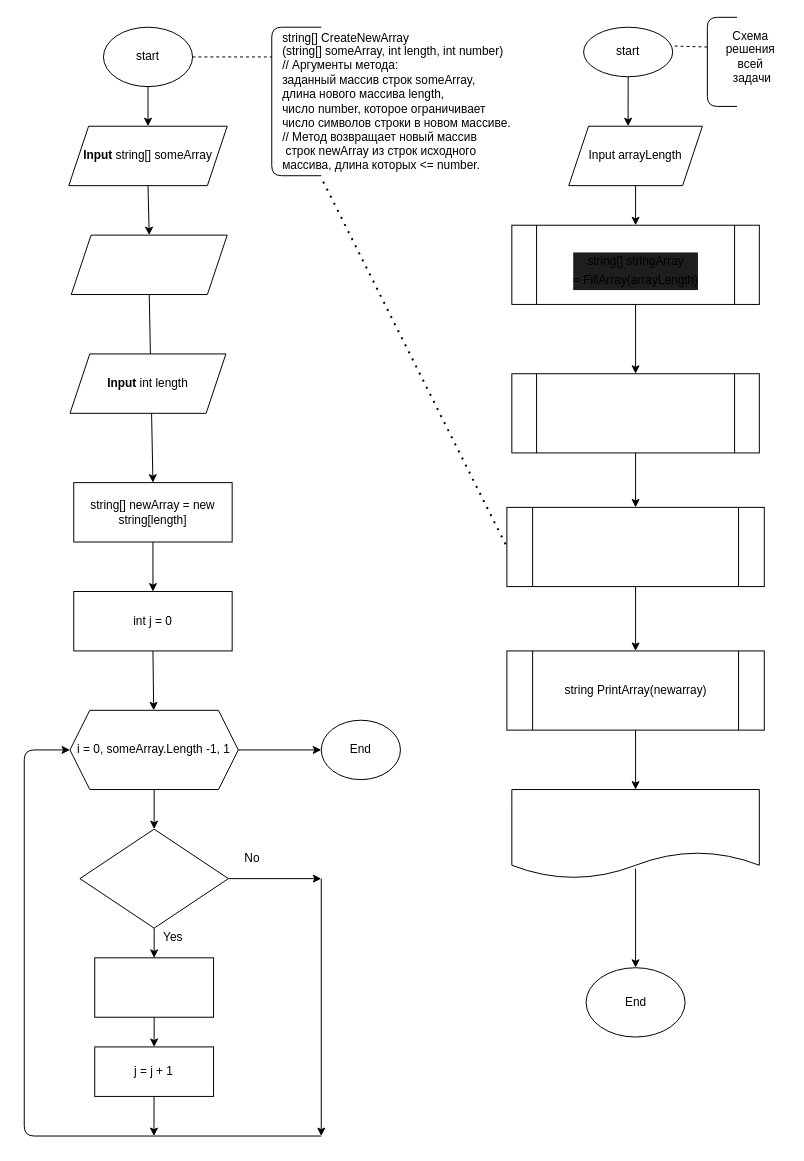
Some shapes in this 804 by 1161 pixel diagram are drawn without their labels. Each missing label, with the centre of its shape:
Console.Write($"{PrintArray(stringArray)} -> {PrintArray(newArray)}"): [635,834]
Input int number: [148,264]
int newArrayLength= FindNewArrayLength(stringArray, 3): [635,413]
newArray[ j ] = someArray[ i ]: [154,987]
someArray[ i ].Length <= number: [153,878]
string[] newArray = CreateNewArray(stringArray, newArrayLength, 3): [635,546]
